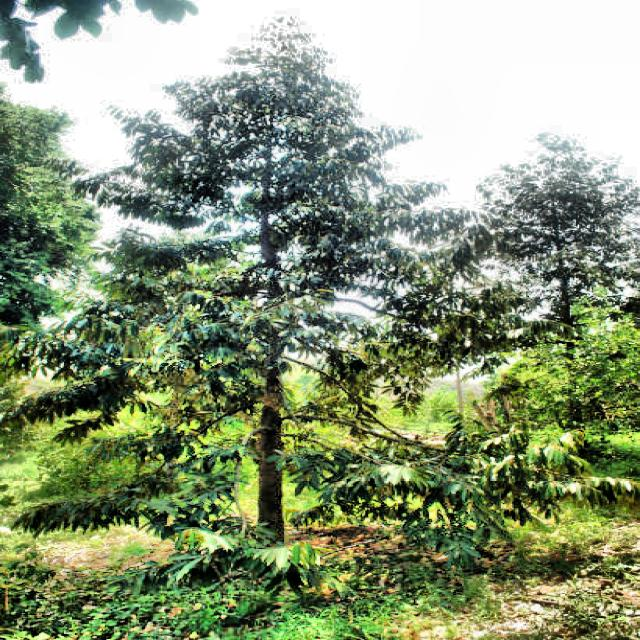arvore: (223, 198, 329, 586)
